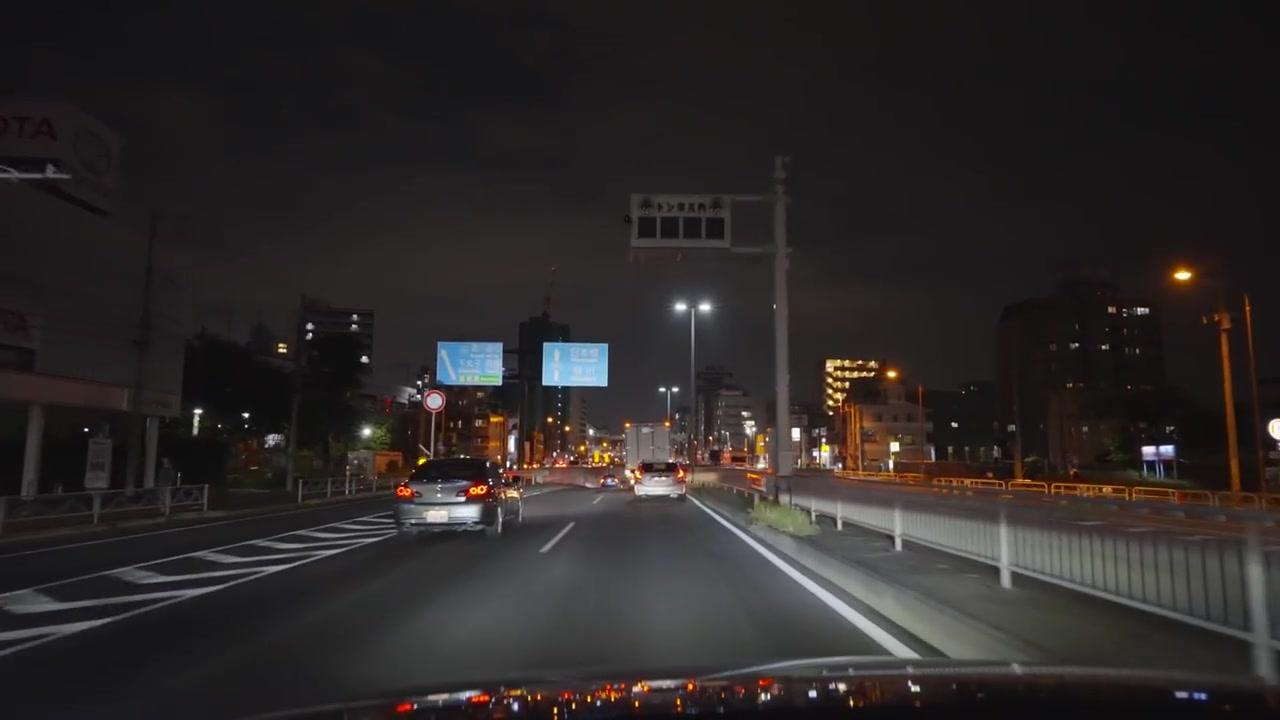car: (391, 457, 521, 540), (633, 459, 688, 501), (600, 474, 628, 488)
traffic light: (423, 389, 445, 414), (385, 396, 393, 413)
